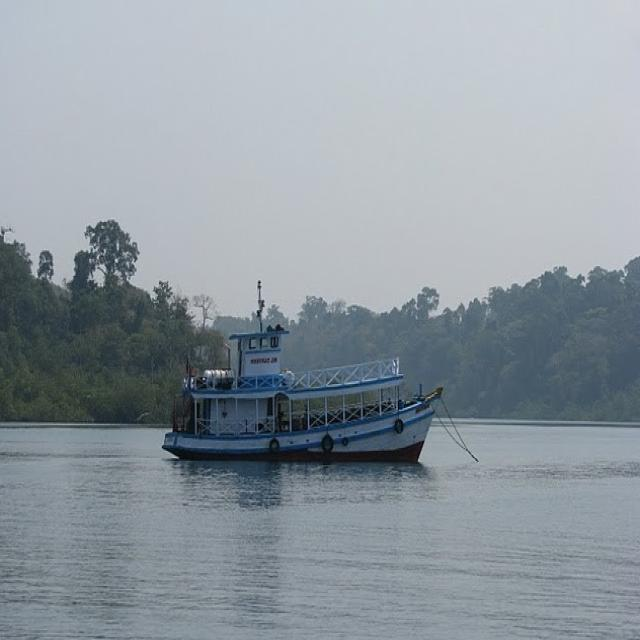fishing boat: (167, 321, 442, 459)
